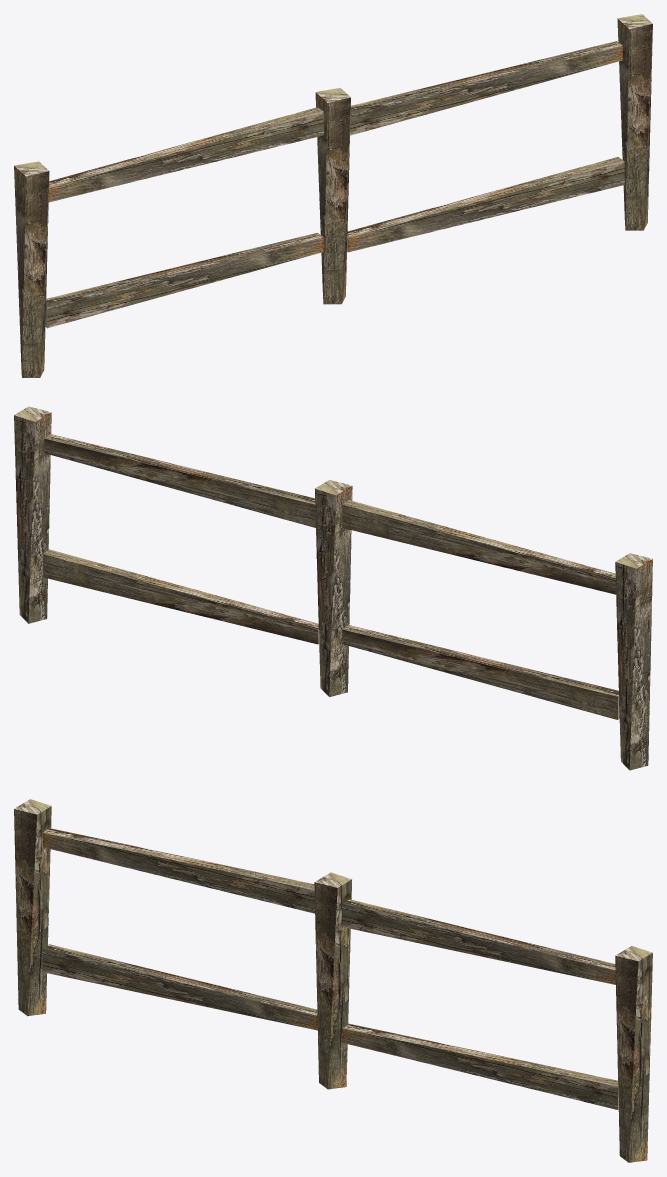
Rendered from fence.obj.
The picture shows the model from 3 angles, top to bottom: view 1: azimuth 30°, elevation 25°; view 2: azimuth 150°, elevation 25°; view 3: azimuth 330°, elevation 25°; orthographic projection.
Parts seen in each view (by area): view 1: Cube.003, Cube.001, Cube, Cube.002, Cylinder.001, Cylinder.002, Cylinder; view 2: Cube.003, Cube.001, Cube, Cylinder.001, Cube.002, Cylinder.002, Cylinder; view 3: Cube.001, Cube.003, Cube.002, Cylinder.002, Cube, Cylinder.001, Cylinder.
Boxes of the visible parts, box(x1,y1,x2,y2) form: Cube.003: box(347, 157, 624, 252); Cube.001: box(45, 232, 323, 328); Cube: box(48, 107, 323, 202); Cube.002: box(350, 41, 622, 135); Cylinder.001: box(14, 161, 49, 377); Cylinder.002: box(617, 14, 652, 230); Cylinder: box(315, 87, 350, 304); Cube.003: box(42, 549, 319, 644); Cube.001: box(342, 625, 619, 719); Cube: box(342, 500, 615, 594); Cylinder.001: box(615, 553, 652, 770); Cube.002: box(44, 434, 315, 527); Cylinder.002: box(14, 406, 51, 623); Cylinder: box(315, 480, 352, 696); Cube.001: box(42, 944, 317, 1030); Cube.003: box(342, 1023, 618, 1109); Cube.002: box(342, 899, 615, 984); Cylinder.002: box(615, 946, 652, 1162); Cube: box(43, 828, 314, 913); Cylinder.001: box(14, 799, 51, 1016); Cylinder: box(314, 872, 351, 1089).
Size of the model in its own units: 2.7 by 0.8385 by 0.1081.
1 material, 1 textured.
